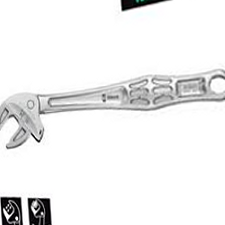Wrench: (5, 68, 225, 151)
